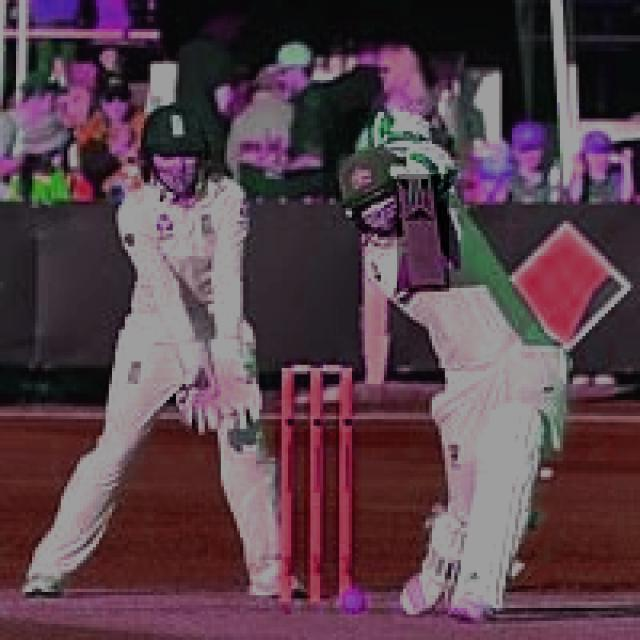bat: (392, 173, 456, 296)
toe: (406, 279, 453, 293)
